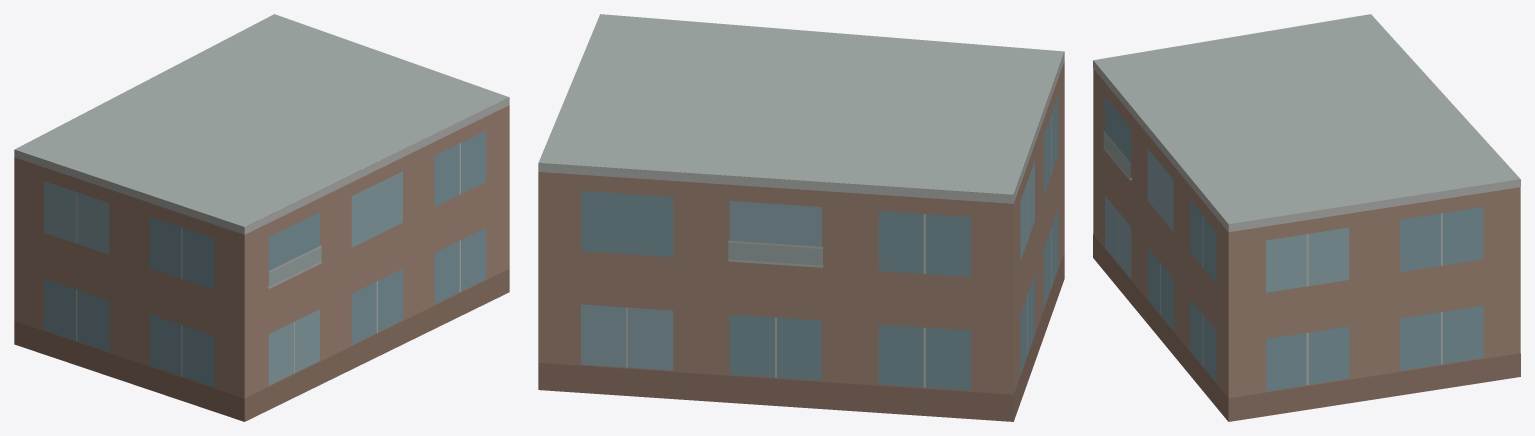
The model's file is survey-upis-32836426.glb.
The picture shows the model from 3 angles, left to right: view 1: azimuth 30°, elevation 25°; view 2: azimuth 150°, elevation 25°; view 3: azimuth 270°, elevation 25°; orthographic projection. The views are drawn at different scales.
Visible parts, largest first — view 1: survey-upis-32836426.tmp; view 2: survey-upis-32836426.tmp; view 3: survey-upis-32836426.tmp.
Boxes of the visible parts, x1,y1,x2,y2 form: survey-upis-32836426.tmp: [14, 14, 509, 421]; survey-upis-32836426.tmp: [538, 14, 1064, 421]; survey-upis-32836426.tmp: [1093, 14, 1520, 421].
Size of the model in its own units: 13.93 by 6.1 by 11.98.
